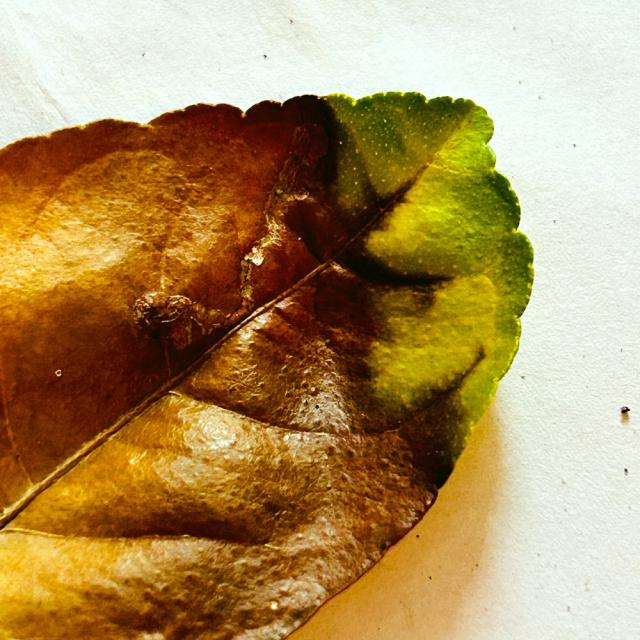DryLeaf_Lemon: (0, 96, 434, 639)
